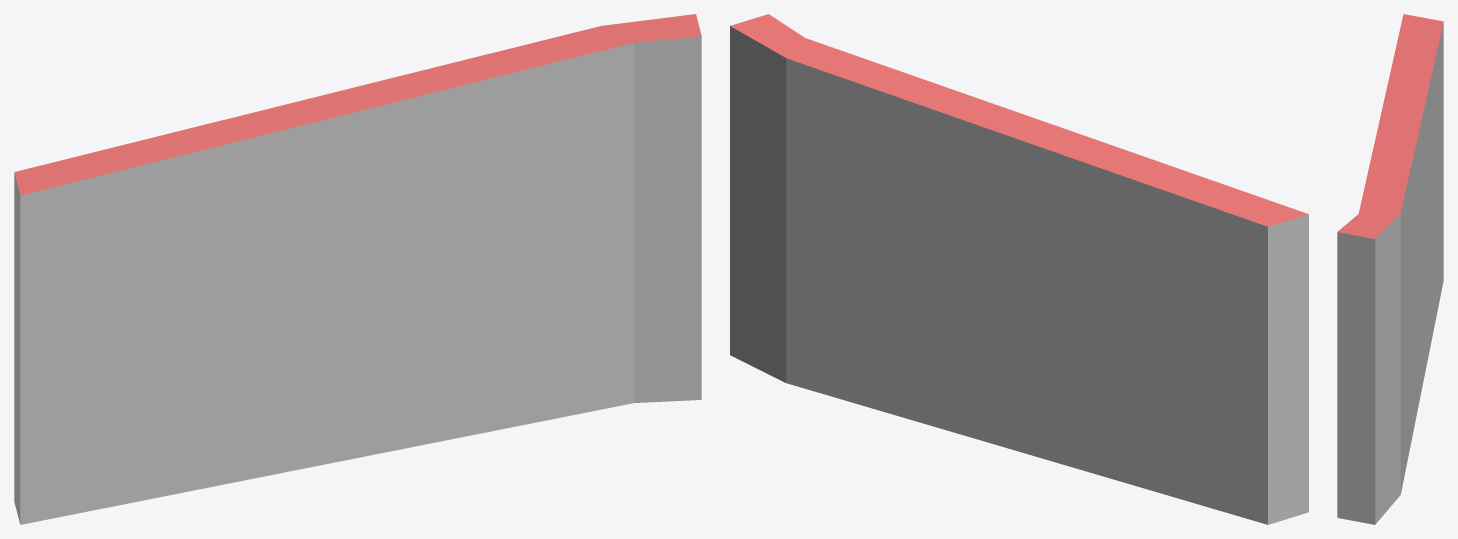
File: DEBY_LOD2_42364667.gltf
The picture shows the model from 3 angles, left to right: view 1: azimuth 30°, elevation 25°; view 2: azimuth 150°, elevation 25°; view 3: azimuth 270°, elevation 25°; orthographic projection. The views are drawn at different scales.
Parts seen in each view (by area): view 1: Z_UP; view 2: Z_UP; view 3: Z_UP.
Part boxes in pixels (left/top/right/bottom): Z_UP: left=14, top=14, right=701, bottom=524; Z_UP: left=730, top=14, right=1308, bottom=524; Z_UP: left=1337, top=14, right=1443, bottom=524.
Size of the model in its own units: 25.92 by 13.7 by 4.63.
